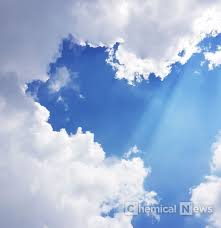sky: (2, 1, 218, 202)
